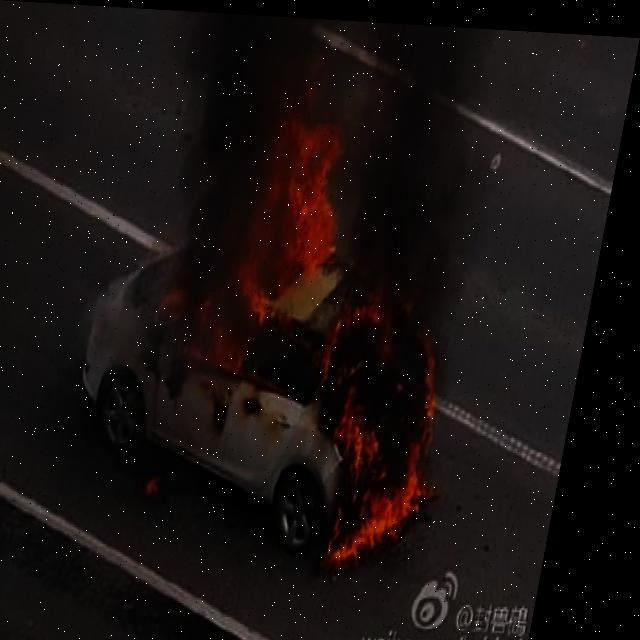Fire: (153, 75, 370, 408), (307, 274, 477, 564)
